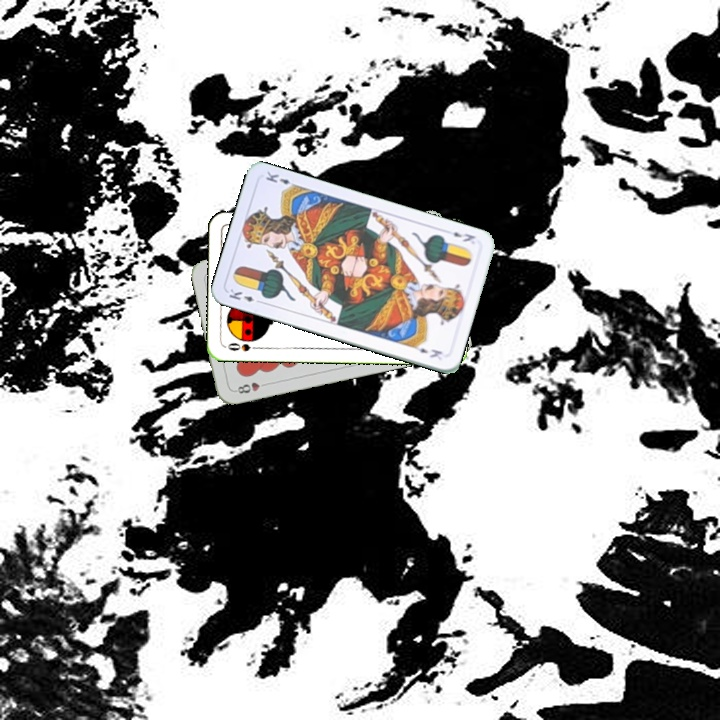EK: (225, 285, 265, 306), (449, 228, 478, 244)
H8: (231, 378, 271, 396)
SO: (222, 339, 262, 354)
